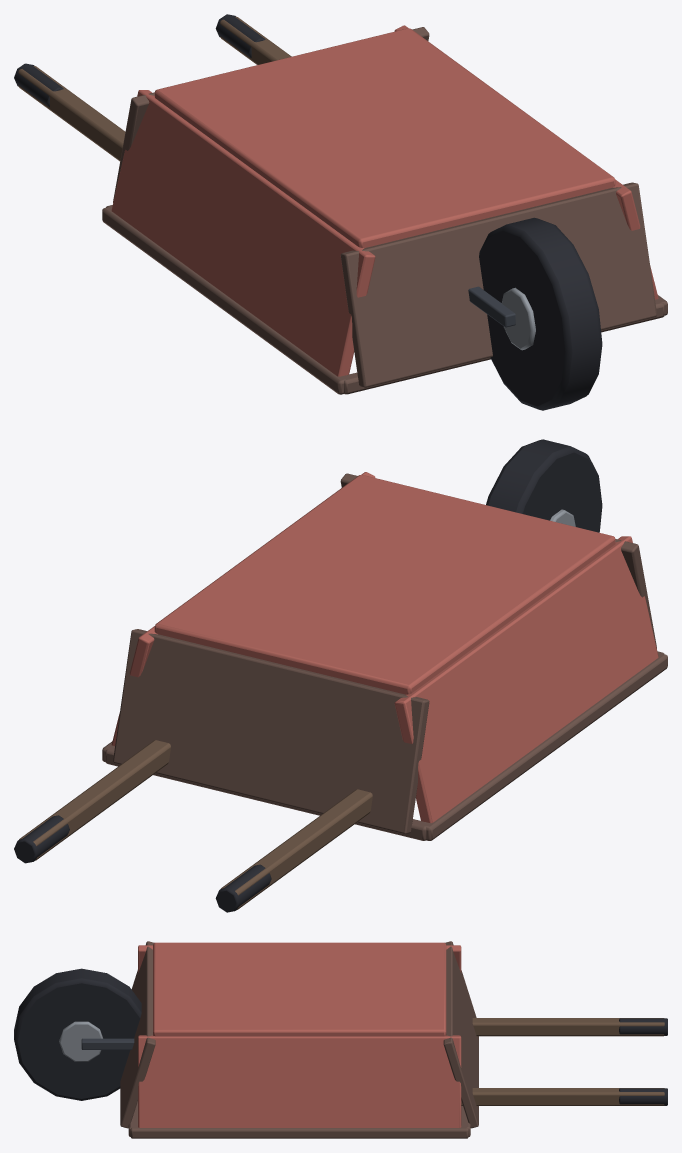
File: wild_wheelbarrow.fbx
3 views of the same model, one above another, from view 1: azimuth 30°, elevation 25°; view 2: azimuth 150°, elevation 25°; view 3: azimuth 270°, elevation 25° (orthographic). The views are drawn at different scales.
Parts seen in each view (by area): view 1: wild_wheelbarrow; view 2: wild_wheelbarrow; view 3: wild_wheelbarrow.
Boxes of the visible parts, x1,y1,x2,y2 form: wild_wheelbarrow: [14, 14, 667, 410]; wild_wheelbarrow: [14, 439, 667, 912]; wild_wheelbarrow: [14, 941, 667, 1138].
Bounding box in the file's own units: 0.72 × 1.74 × 0.36.
